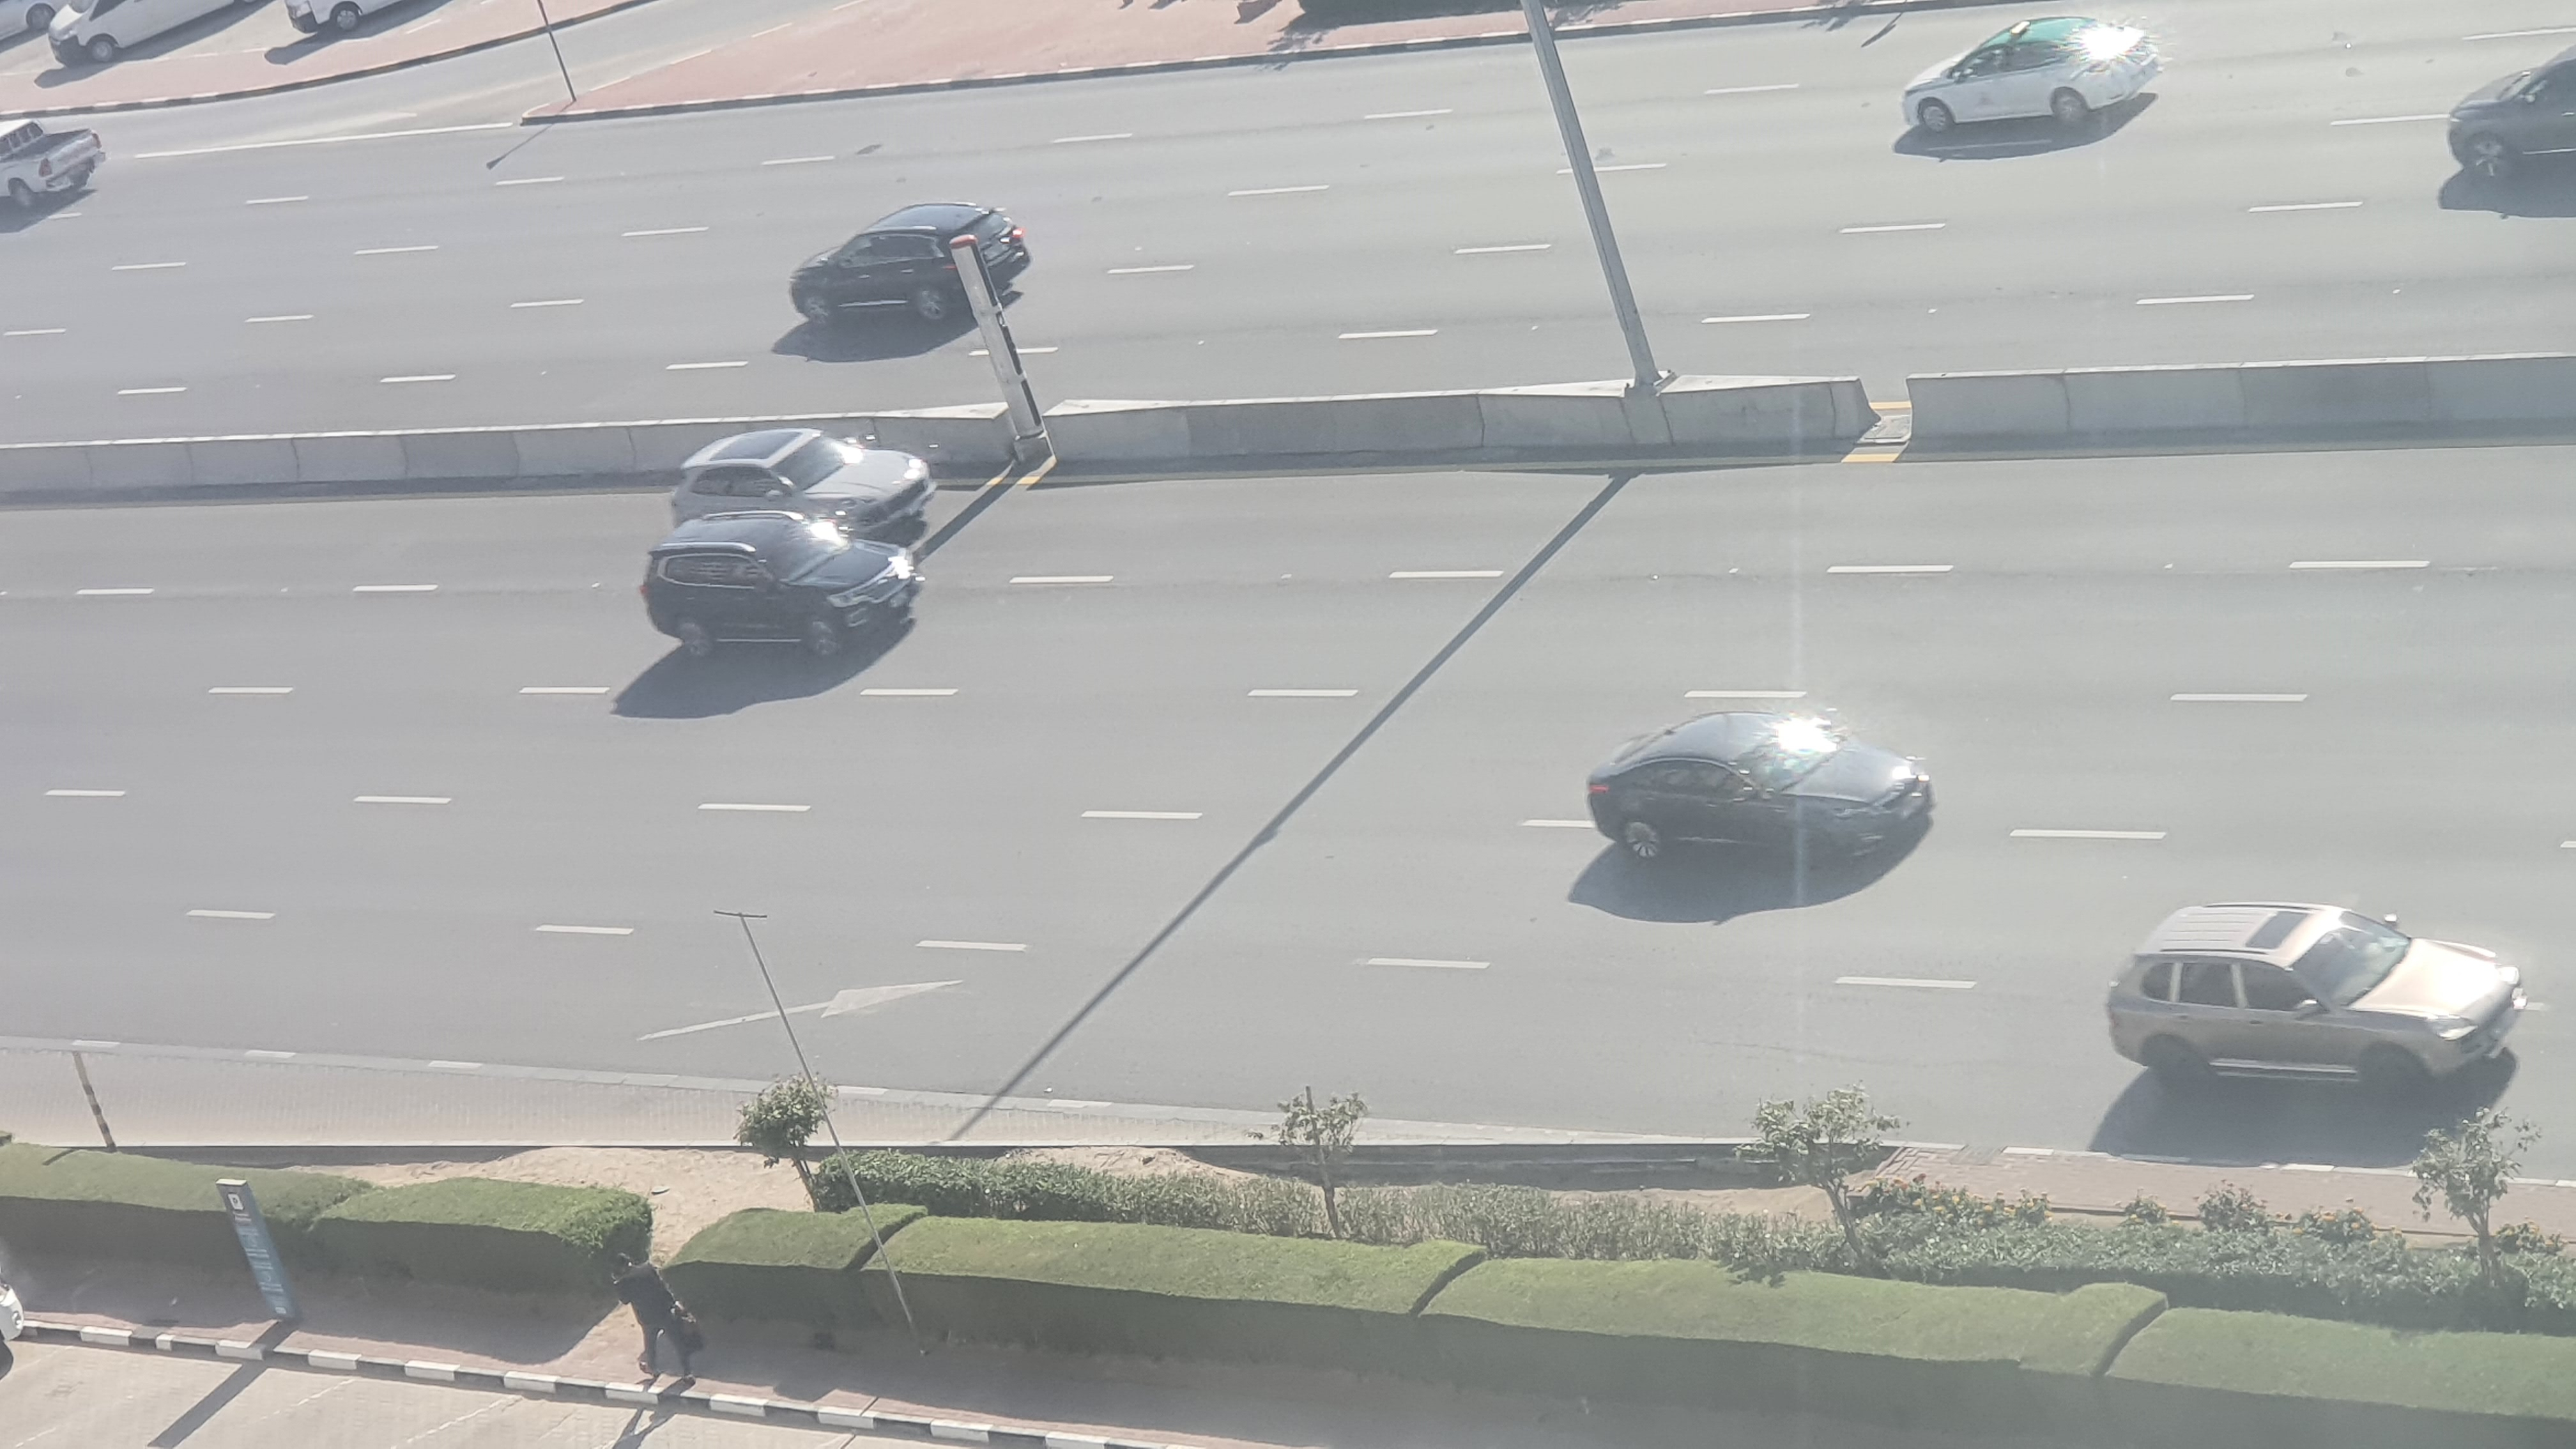NotSunroof: (1575, 708, 1943, 888)
Sunroof: (2104, 906, 2526, 1104), (646, 511, 918, 662), (667, 430, 934, 520)
